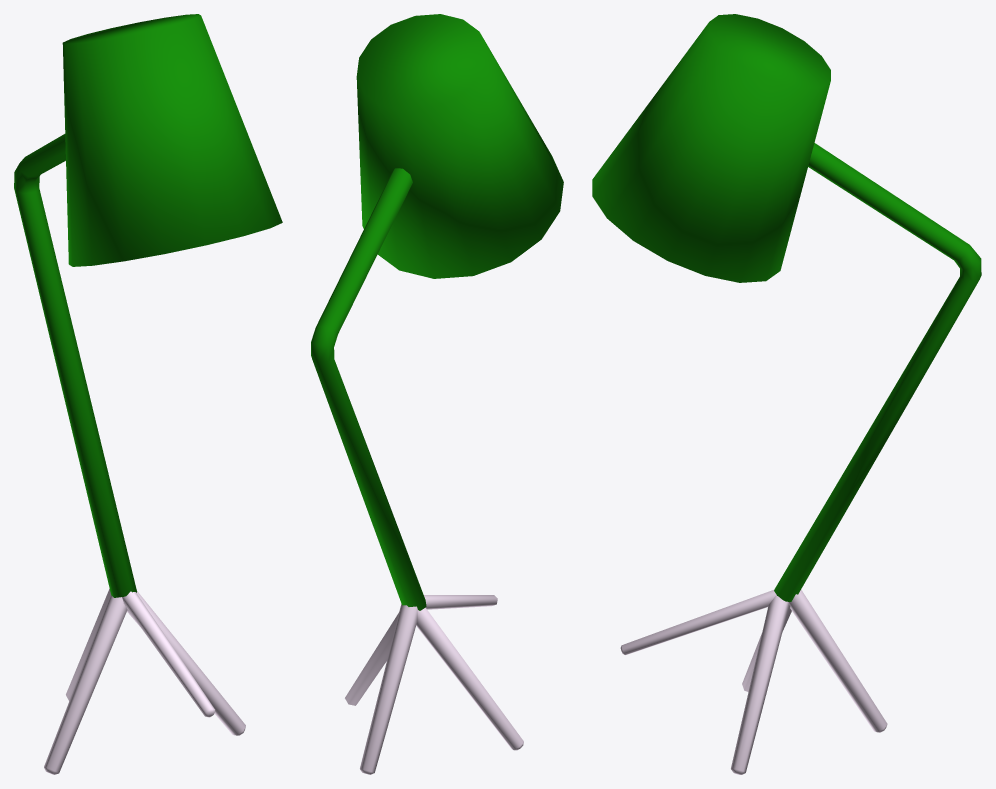
Rendered from Desk_lamp.fbx.
3 views of the same model, side by side, from view 1: azimuth 30°, elevation 25°; view 2: azimuth 150°, elevation 25°; view 3: azimuth 270°, elevation 25° (orthographic). The views are drawn at different scales.
Parts seen in each view (by area): view 1: Desk_lamp; view 2: Desk_lamp; view 3: Desk_lamp.
Boxes of the visible parts, left/top/right/bottom form: Desk_lamp: left=14, top=14, right=282, bottom=774; Desk_lamp: left=311, top=14, right=563, bottom=774; Desk_lamp: left=592, top=14, right=981, bottom=774.
Size of the model in its own units: 0.2267 by 0.8325 by 0.4158.
